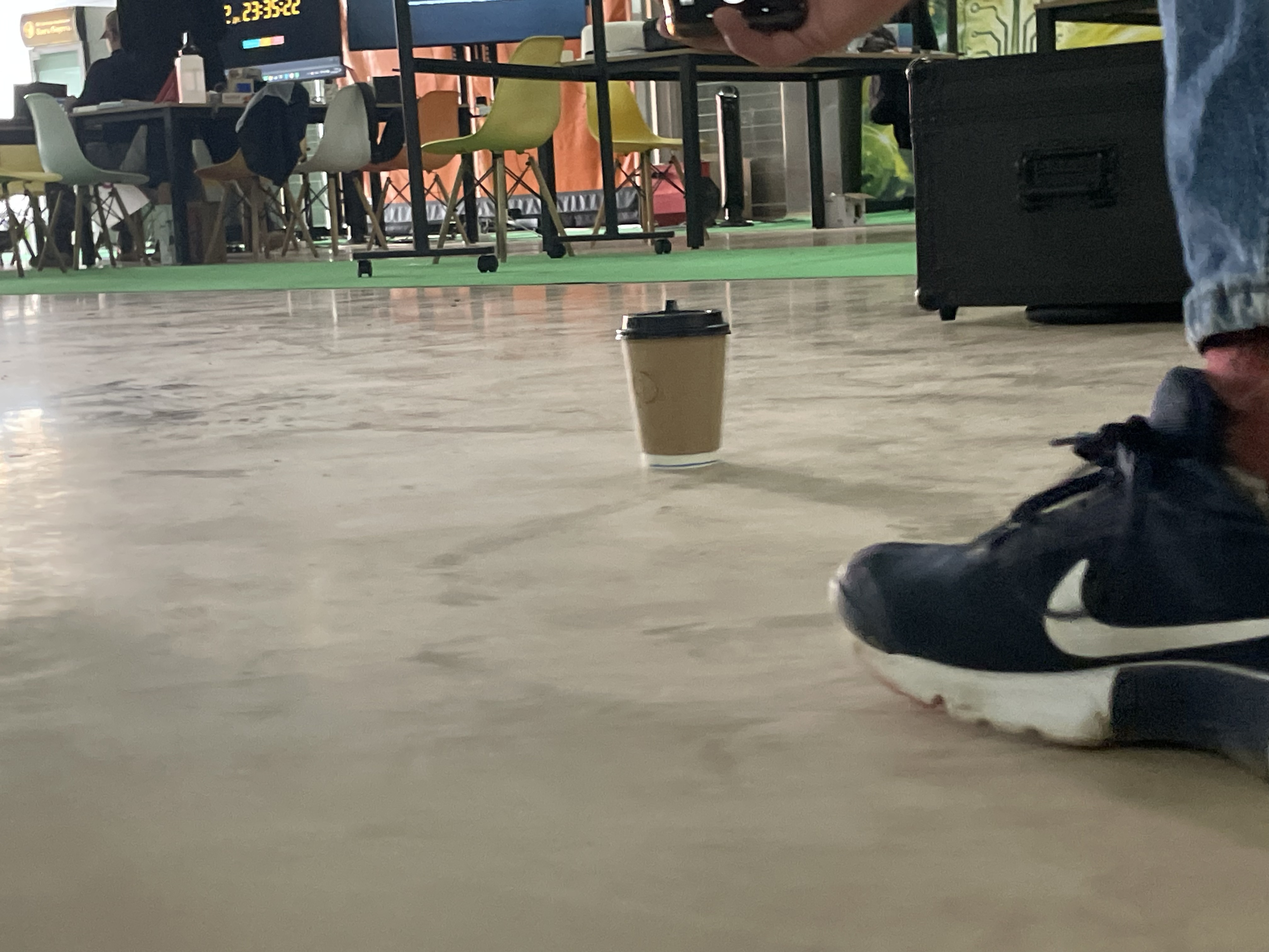cup: (616, 300, 731, 470)
